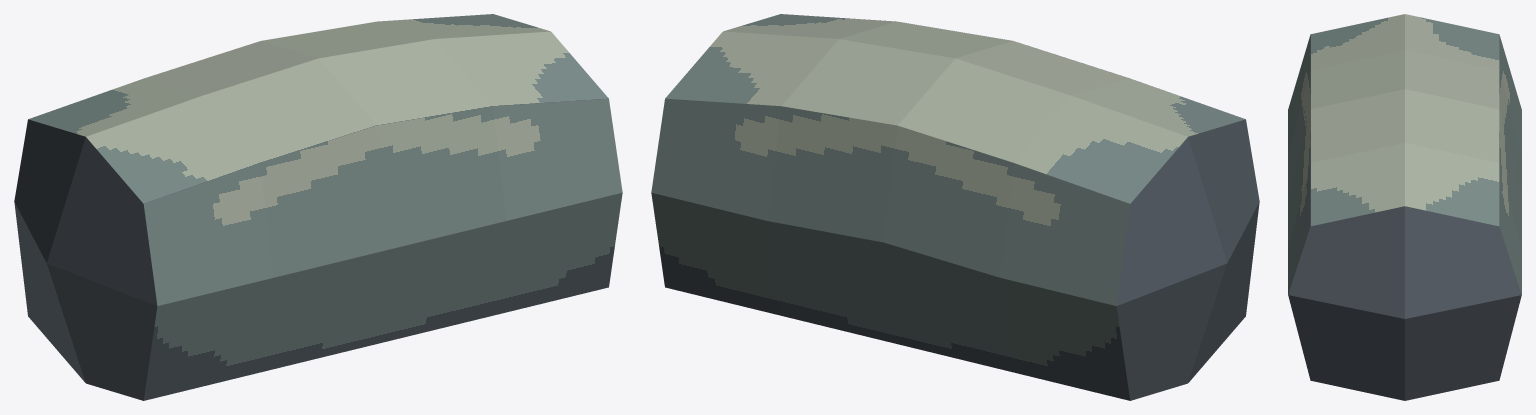
Rendered from god_forearm.glb.
3 views of the same model, side by side, from view 1: azimuth 30°, elevation 25°; view 2: azimuth 150°, elevation 25°; view 3: azimuth 270°, elevation 25° (orthographic). The views are drawn at different scales.
Visible parts, largest first — view 1: Cube.198; view 2: Cube.198; view 3: Cube.198.
Boxes of the visible parts, left/top/right/bottom form: Cube.198: left=14, top=14, right=622, bottom=400; Cube.198: left=651, top=14, right=1259, bottom=400; Cube.198: left=1288, top=14, right=1521, bottom=400.
Size of the model in its own units: 3.13 by 1.42 by 1.37.
Materials: 1 (1 with a texture image).
